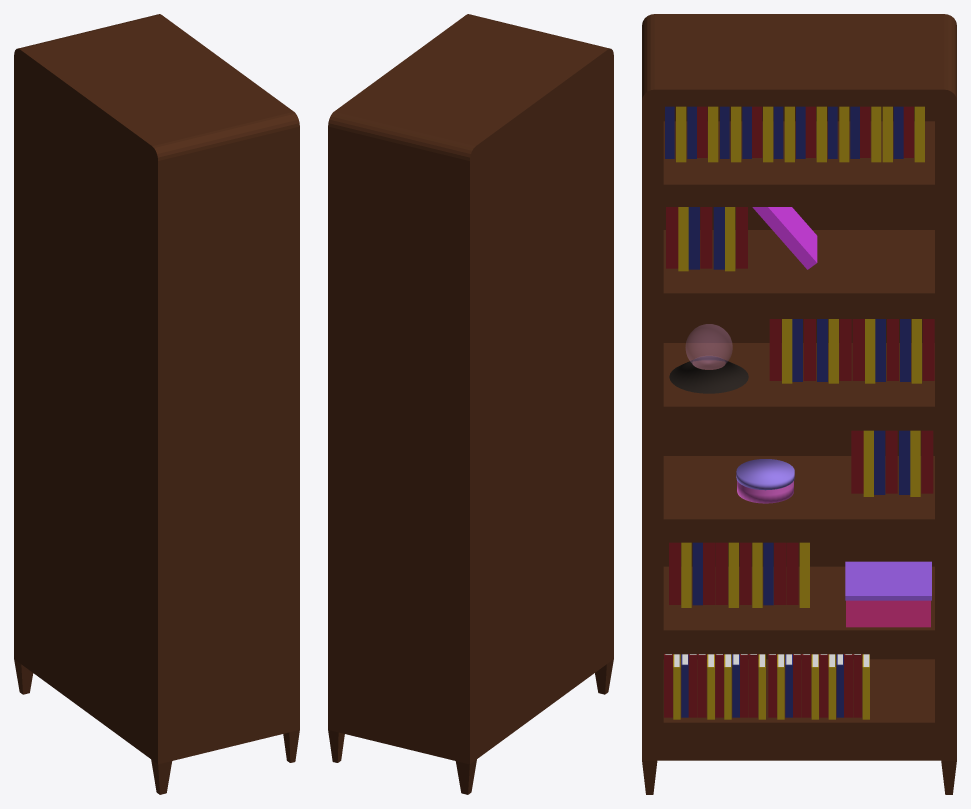
The model's file is Bookshelf(2.2).fbx.
3 views of the same model, side by side, from view 1: azimuth 30°, elevation 25°; view 2: azimuth 150°, elevation 25°; view 3: azimuth 270°, elevation 25° (orthographic). The views are drawn at different scales.
Visible parts, largest first — view 1: Shelf; view 2: Shelf; view 3: Shelf, Red_Books, Yellow Books, Blue Books, Box_Top, Crystal_Ball, Circle Box, Purple_Books.
Boxes of the visible parts, x1,y1,x2,y2 form: Shelf: [14, 14, 299, 794]; Shelf: [328, 14, 613, 794]; Shelf: [642, 14, 956, 794]; Red_Books: [664, 106, 934, 717]; Yellow Books: [673, 106, 924, 719]; Blue Books: [665, 106, 910, 717]; Box_Top: [845, 561, 931, 627]; Crystal_Ball: [669, 324, 748, 393]; Circle Box: [736, 459, 794, 503]; Purple_Books: [752, 207, 817, 269].
Size of the model in its own units: 200 by 872 by 352.
